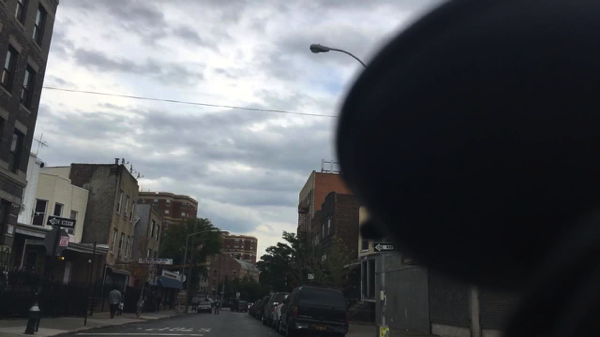car: (278, 285, 350, 337), (268, 291, 292, 332), (259, 296, 270, 324), (198, 302, 213, 313), (253, 299, 261, 319), (235, 301, 249, 312), (248, 302, 255, 313)
person: (107, 285, 124, 318), (137, 296, 147, 318), (213, 296, 221, 315), (191, 296, 198, 313), (157, 296, 161, 311)
traffic sign: (44, 229, 71, 257), (45, 216, 76, 226), (371, 243, 396, 253), (59, 237, 69, 250), (177, 275, 186, 284), (308, 274, 316, 279), (235, 291, 240, 298)
